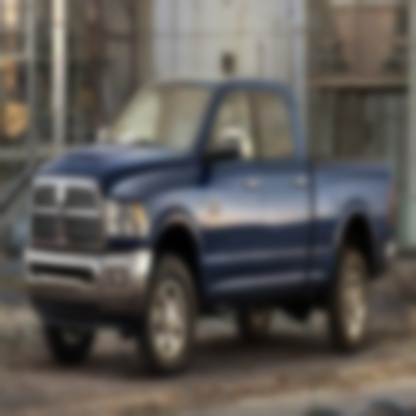Vehicle: (24, 76, 397, 382)
